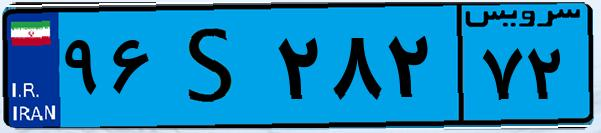2: (270, 28, 330, 110), (385, 28, 445, 110), (525, 38, 570, 115)
6: (110, 28, 158, 98)
7: (475, 38, 525, 113)
8: (330, 28, 385, 110)
9: (57, 26, 110, 100)
S: (158, 12, 270, 120)
